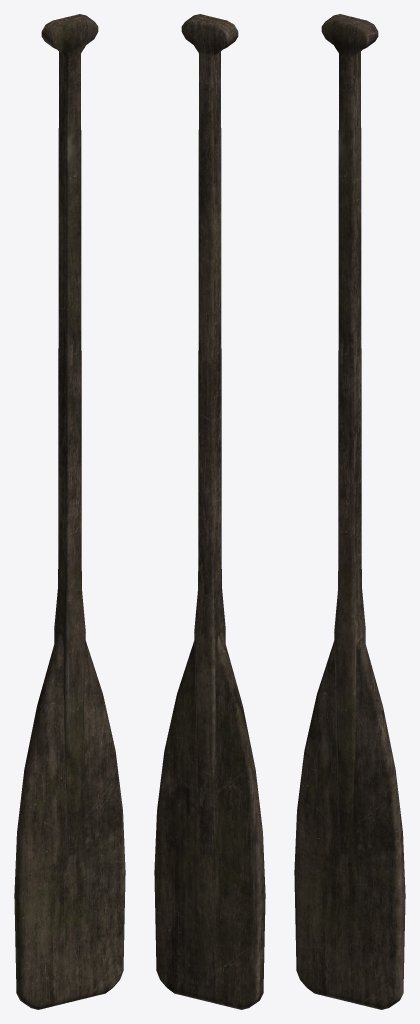
Rendered from Oar.fbx.
The picture shows the model from 3 angles, left to right: view 1: azimuth 30°, elevation 25°; view 2: azimuth 150°, elevation 25°; view 3: azimuth 330°, elevation 25°; orthographic projection.
Visible parts, largest first — view 1: Oar; view 2: Oar; view 3: Oar.
Part boxes in pixels (x1,y1,x2,y2): Oar: [14, 14, 125, 1009]; Oar: [154, 14, 265, 1009]; Oar: [294, 14, 405, 1009].
Size of the model in its own units: 19.94 by 174 by 4.42.
